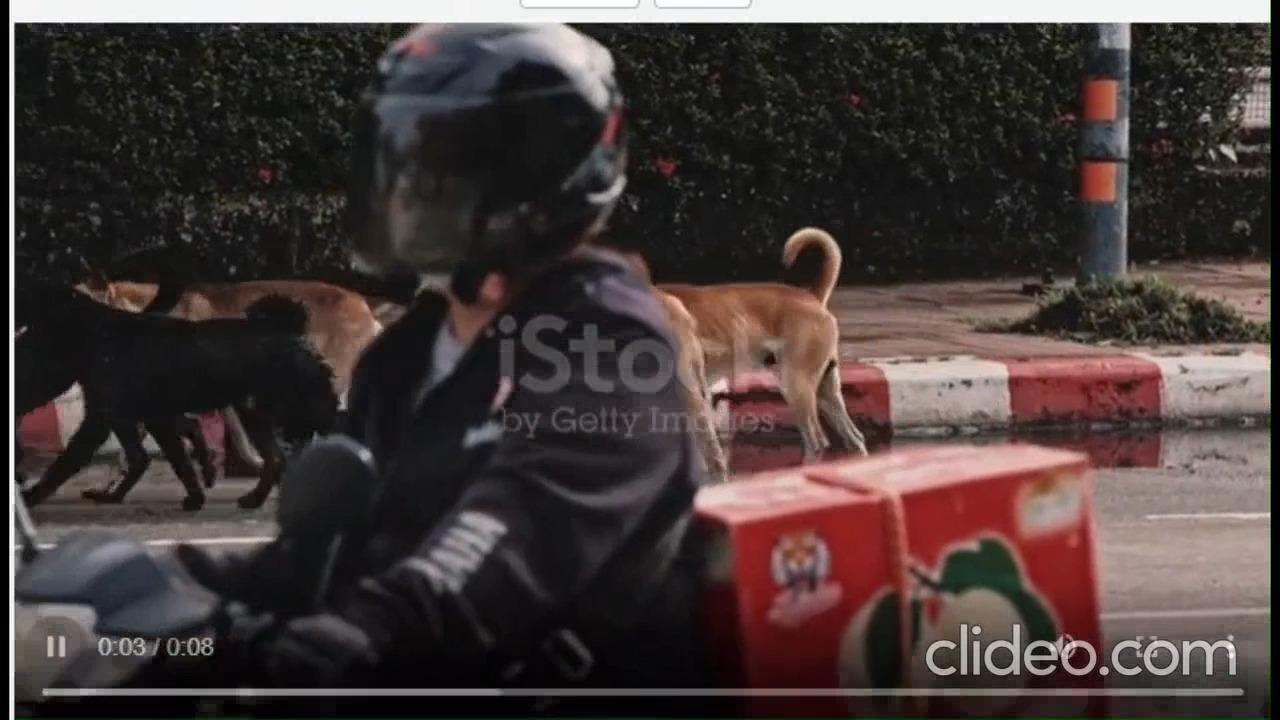dog: (15, 232, 390, 492), (4, 291, 340, 505)
